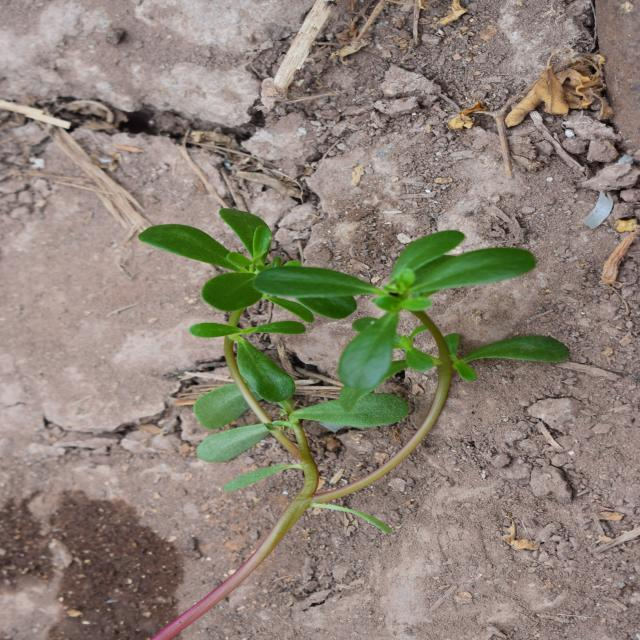purslane: (130, 143, 465, 543)
